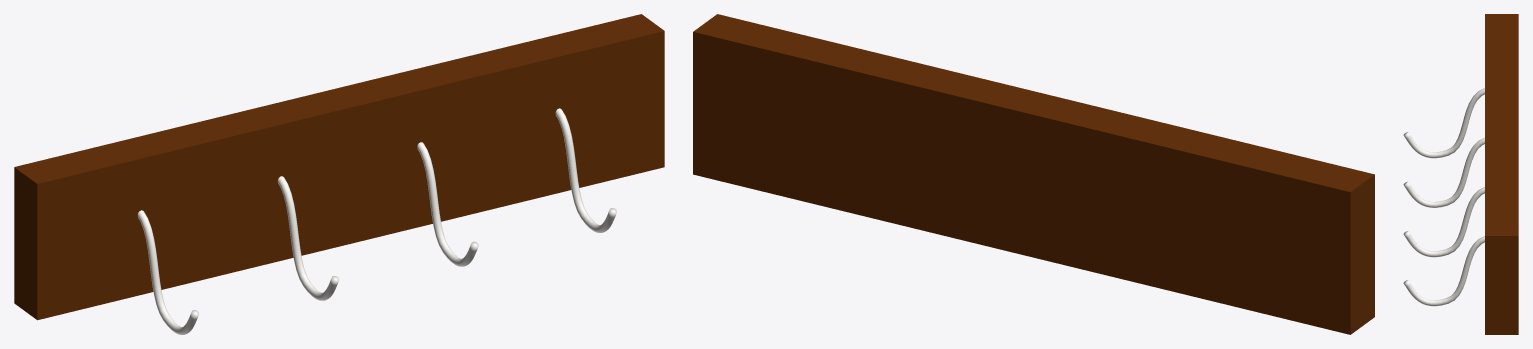
3 views of the same model, side by side, from view 1: azimuth 30°, elevation 25°; view 2: azimuth 150°, elevation 25°; view 3: azimuth 270°, elevation 25° (orthographic). The views are drawn at different scales.
Visible parts, largest first — view 1: MC-34; view 2: MC-34; view 3: MC-34.
Boxes of the visible parts, bbox=[...] form: MC-34: bbox=[14, 14, 664, 334]; MC-34: bbox=[693, 14, 1374, 334]; MC-34: bbox=[1403, 14, 1518, 334].
Bounding box in the file's own units: 45.61 × 10.27 × 9.98.
